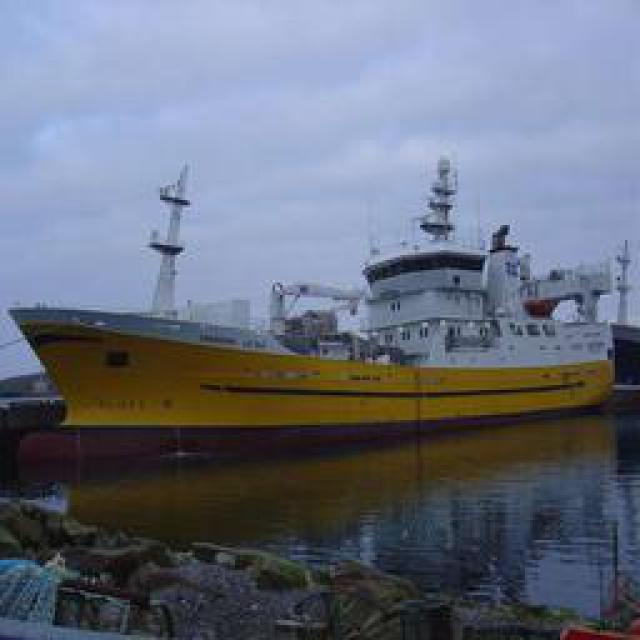Ship: (22, 154, 610, 444)
